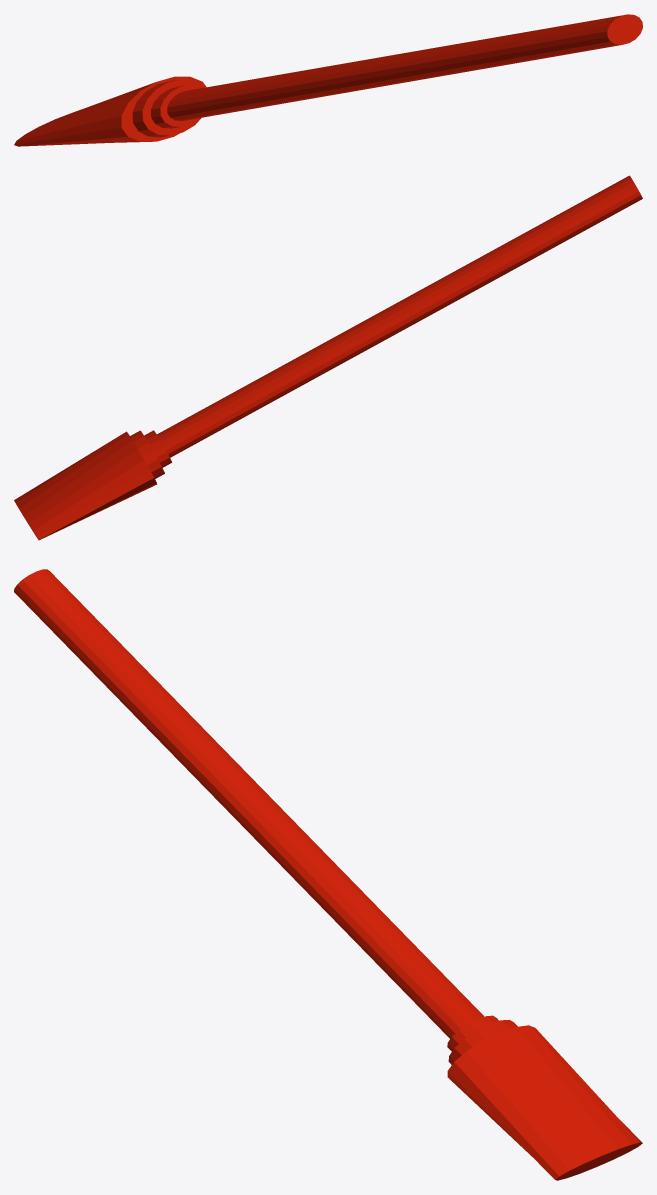
The model's file is PaddleLeft.obj.
3 renders of one model, top to bottom at view 1: azimuth 90°, elevation 25°; view 2: azimuth 150°, elevation 25°; view 3: azimuth 270°, elevation 25°, orthographic. The views are drawn at different scales.
Visible parts, largest first — view 1: PaddleLeft; view 2: PaddleLeft; view 3: PaddleLeft.
Part boxes in pixels (<box>): PaddleLeft: <box>14,14,642,146</box>; PaddleLeft: <box>14,175,642,540</box>; PaddleLeft: <box>14,569,642,1180</box>.
Size of the model in its own units: 1.35 by 0.8406 by 1.34.
